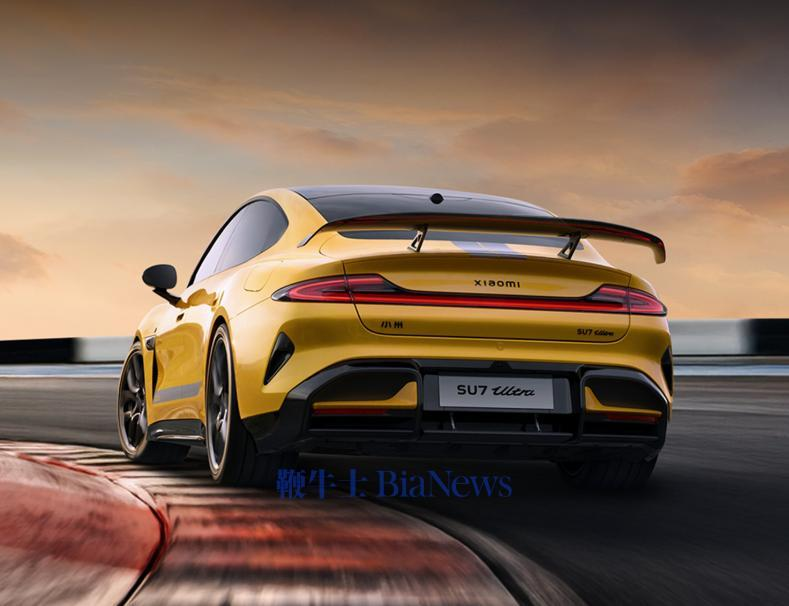su7: (113, 177, 681, 485)
